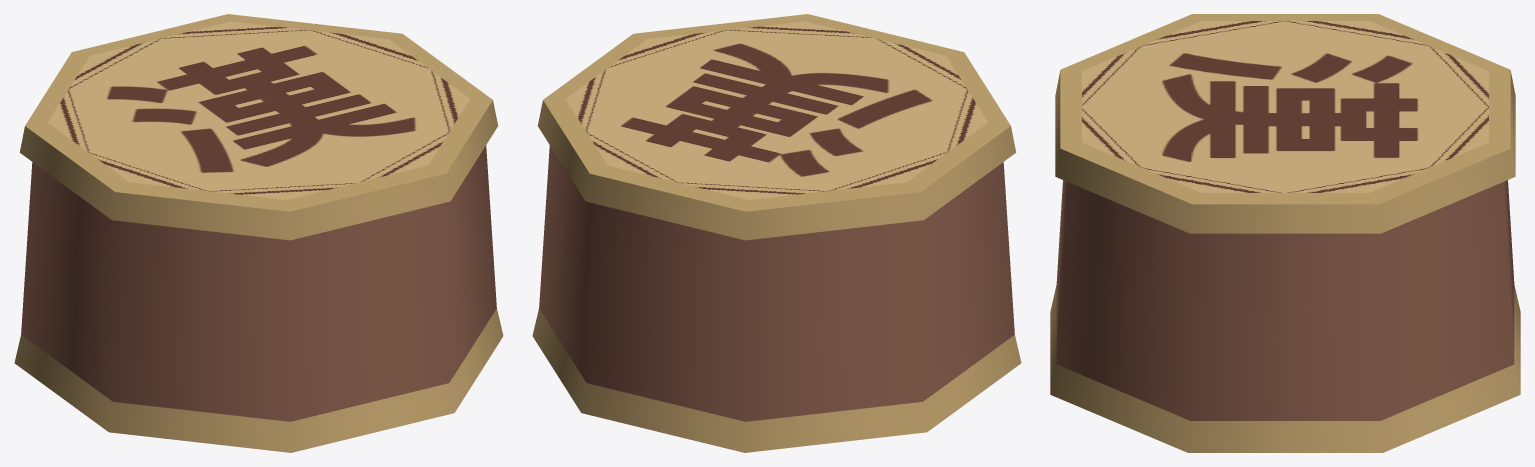
File: Red1.glb
3 views of the same model, side by side, from view 1: azimuth 30°, elevation 25°; view 2: azimuth 150°, elevation 25°; view 3: azimuth 270°, elevation 25° (orthographic). The views are drawn at different scales.
Visible parts, largest first — view 1: Red1; view 2: Red1; view 3: Red1.
Part boxes in pixels (x1,y1,x2,y2): Red1: [14, 14, 503, 452]; Red1: [532, 14, 1021, 452]; Red1: [1050, 14, 1520, 452].
Bounding box in the file's own units: 0.8592 × 0.497 × 0.8592.
3 materials, 1 textured.
